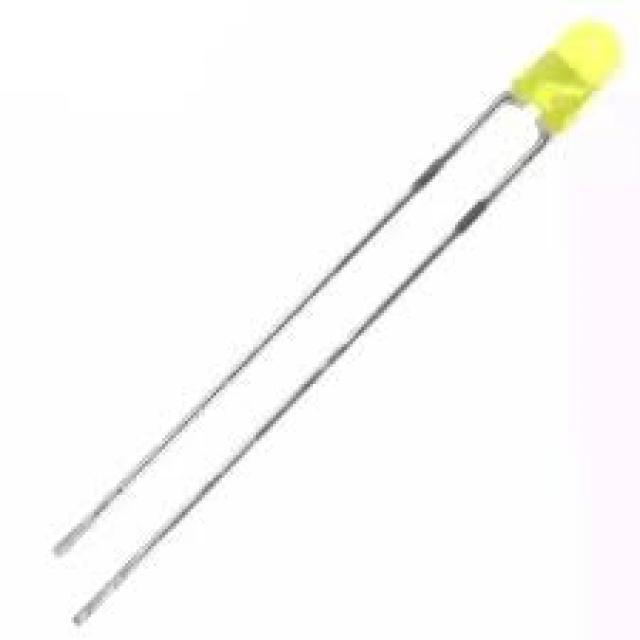Led: (57, 21, 619, 623)
